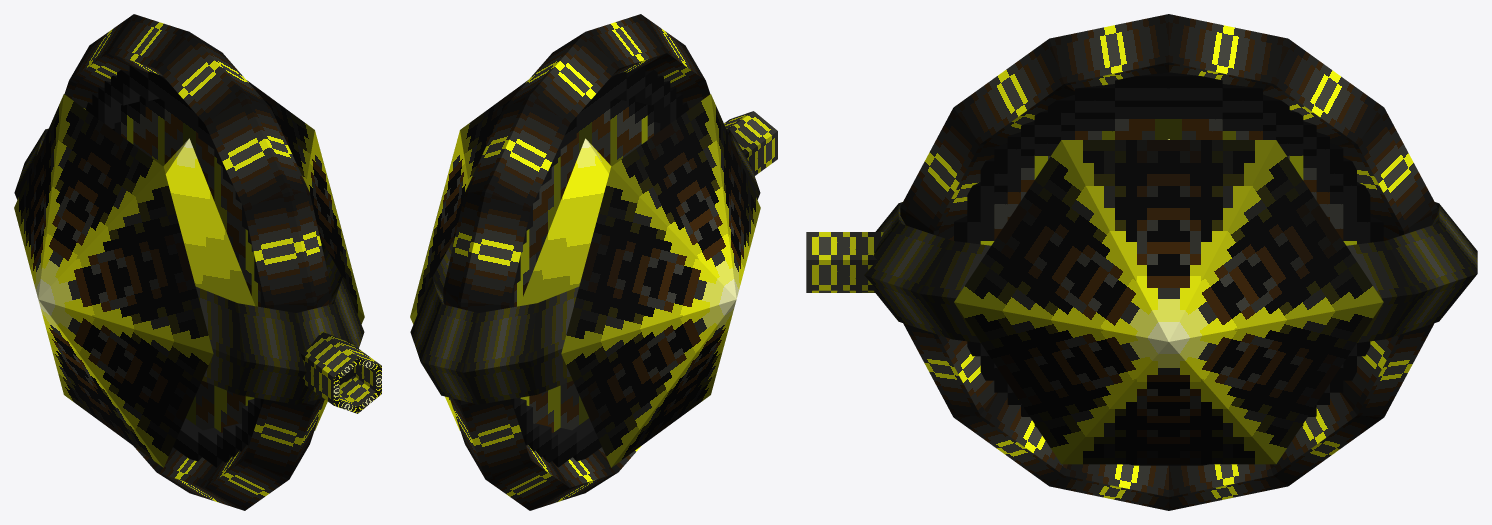
The model's file is Shooter3DModel.obj.
The picture shows the model from 3 angles, left to right: view 1: azimuth 30°, elevation 25°; view 2: azimuth 150°, elevation 25°; view 3: azimuth 270°, elevation 25°; orthographic projection. The views are drawn at different scales.
Parts seen in each view (by area): view 1: cone, torus, sphere, tube, 3Shooter3DModel素材_0, 3Shooter3DModel素材_1, 3Shooter3DModel素材_2, 3Shooter3DModel素材_3, 4Shooter3DModel素材_0, 4Shooter3DModel素材_37, 4Shooter3DModel素材_34, 3Shooter3DModel素材_4 (+2 smaller); view 2: cone, torus, sphere, 3Shooter3DModel素材_0, tube, 3Shooter3DModel素材_2, 3Shooter3DModel素材_1, 3Shooter3DModel素材_4, 4Shooter3DModel素材_0, 4Shooter3DModel素材_37, 4Shooter3DModel素材_35, 3Shooter3DModel素材_3 (+3 smaller); view 3: cone, torus, 3Shooter3DModel素材_0, tube, 4Shooter3DModel素材_0, 3Shooter3DModel素材_2, 3Shooter3DModel素材_1, 4Shooter3DModel素材_2, 4Shooter3DModel素材_1, 4Shooter3DModel素材_17, 4Shooter3DModel素材_18, 4Shooter3DModel素材_15 (+1 smaller).
Boxes of the visible parts, box(x1,y1,x2,y2) form: cone: box(14, 80, 364, 467); torus: box(14, 14, 364, 510); sphere: box(163, 138, 255, 305); tube: box(300, 331, 381, 413); 3Shooter3DModel素材_0: box(164, 102, 214, 430); 3Shooter3DModel素材_1: box(214, 150, 232, 432); 3Shooter3DModel素材_2: box(145, 98, 164, 166); 3Shooter3DModel素材_3: box(233, 186, 245, 424); 4Shooter3DModel素材_0: box(148, 71, 198, 125); 4Shooter3DModel素材_37: box(173, 418, 202, 461); 4Shooter3DModel素材_34: box(198, 427, 222, 467); 3Shooter3DModel素材_4: box(133, 96, 145, 153); cone: box(410, 80, 760, 467); torus: box(410, 14, 760, 510); sphere: box(519, 138, 611, 305); 3Shooter3DModel素材_0: box(560, 102, 610, 430); tube: box(724, 111, 777, 175); 3Shooter3DModel素材_2: box(541, 150, 560, 432); 3Shooter3DModel素材_1: box(610, 98, 628, 166); 3Shooter3DModel素材_4: box(529, 186, 541, 424); 4Shooter3DModel素材_0: box(576, 71, 626, 125); 4Shooter3DModel素材_37: box(572, 418, 601, 461); 4Shooter3DModel素材_35: box(552, 427, 576, 467); 3Shooter3DModel素材_3: box(629, 96, 641, 153); cone: box(954, 140, 1383, 464); torus: box(864, 14, 1477, 510); 3Shooter3DModel素材_0: box(1115, 100, 1222, 139); tube: box(806, 232, 883, 292); 4Shooter3DModel素材_0: box(1115, 72, 1222, 100); 3Shooter3DModel素材_2: box(1222, 112, 1262, 139); 3Shooter3DModel素材_1: box(1075, 112, 1114, 139); 4Shooter3DModel素材_2: box(1222, 84, 1262, 112); 4Shooter3DModel素材_1: box(1075, 84, 1114, 112); 4Shooter3DModel素材_17: box(967, 182, 980, 356); 4Shooter3DModel素材_18: box(1357, 182, 1370, 356); 4Shooter3DModel素材_15: box(980, 157, 994, 222).
Bounding box in the file's own units: 0.875 × 1.28 × 1.56.
6 materials, 6 textured.
